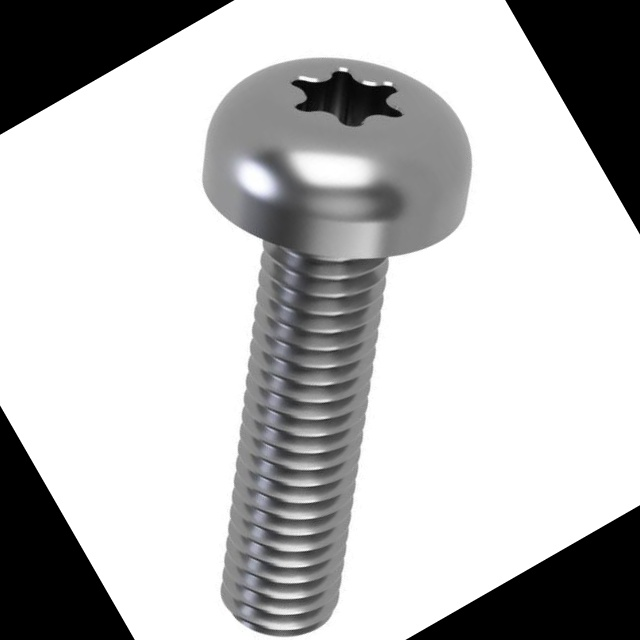torx: (153, 0, 516, 341)
